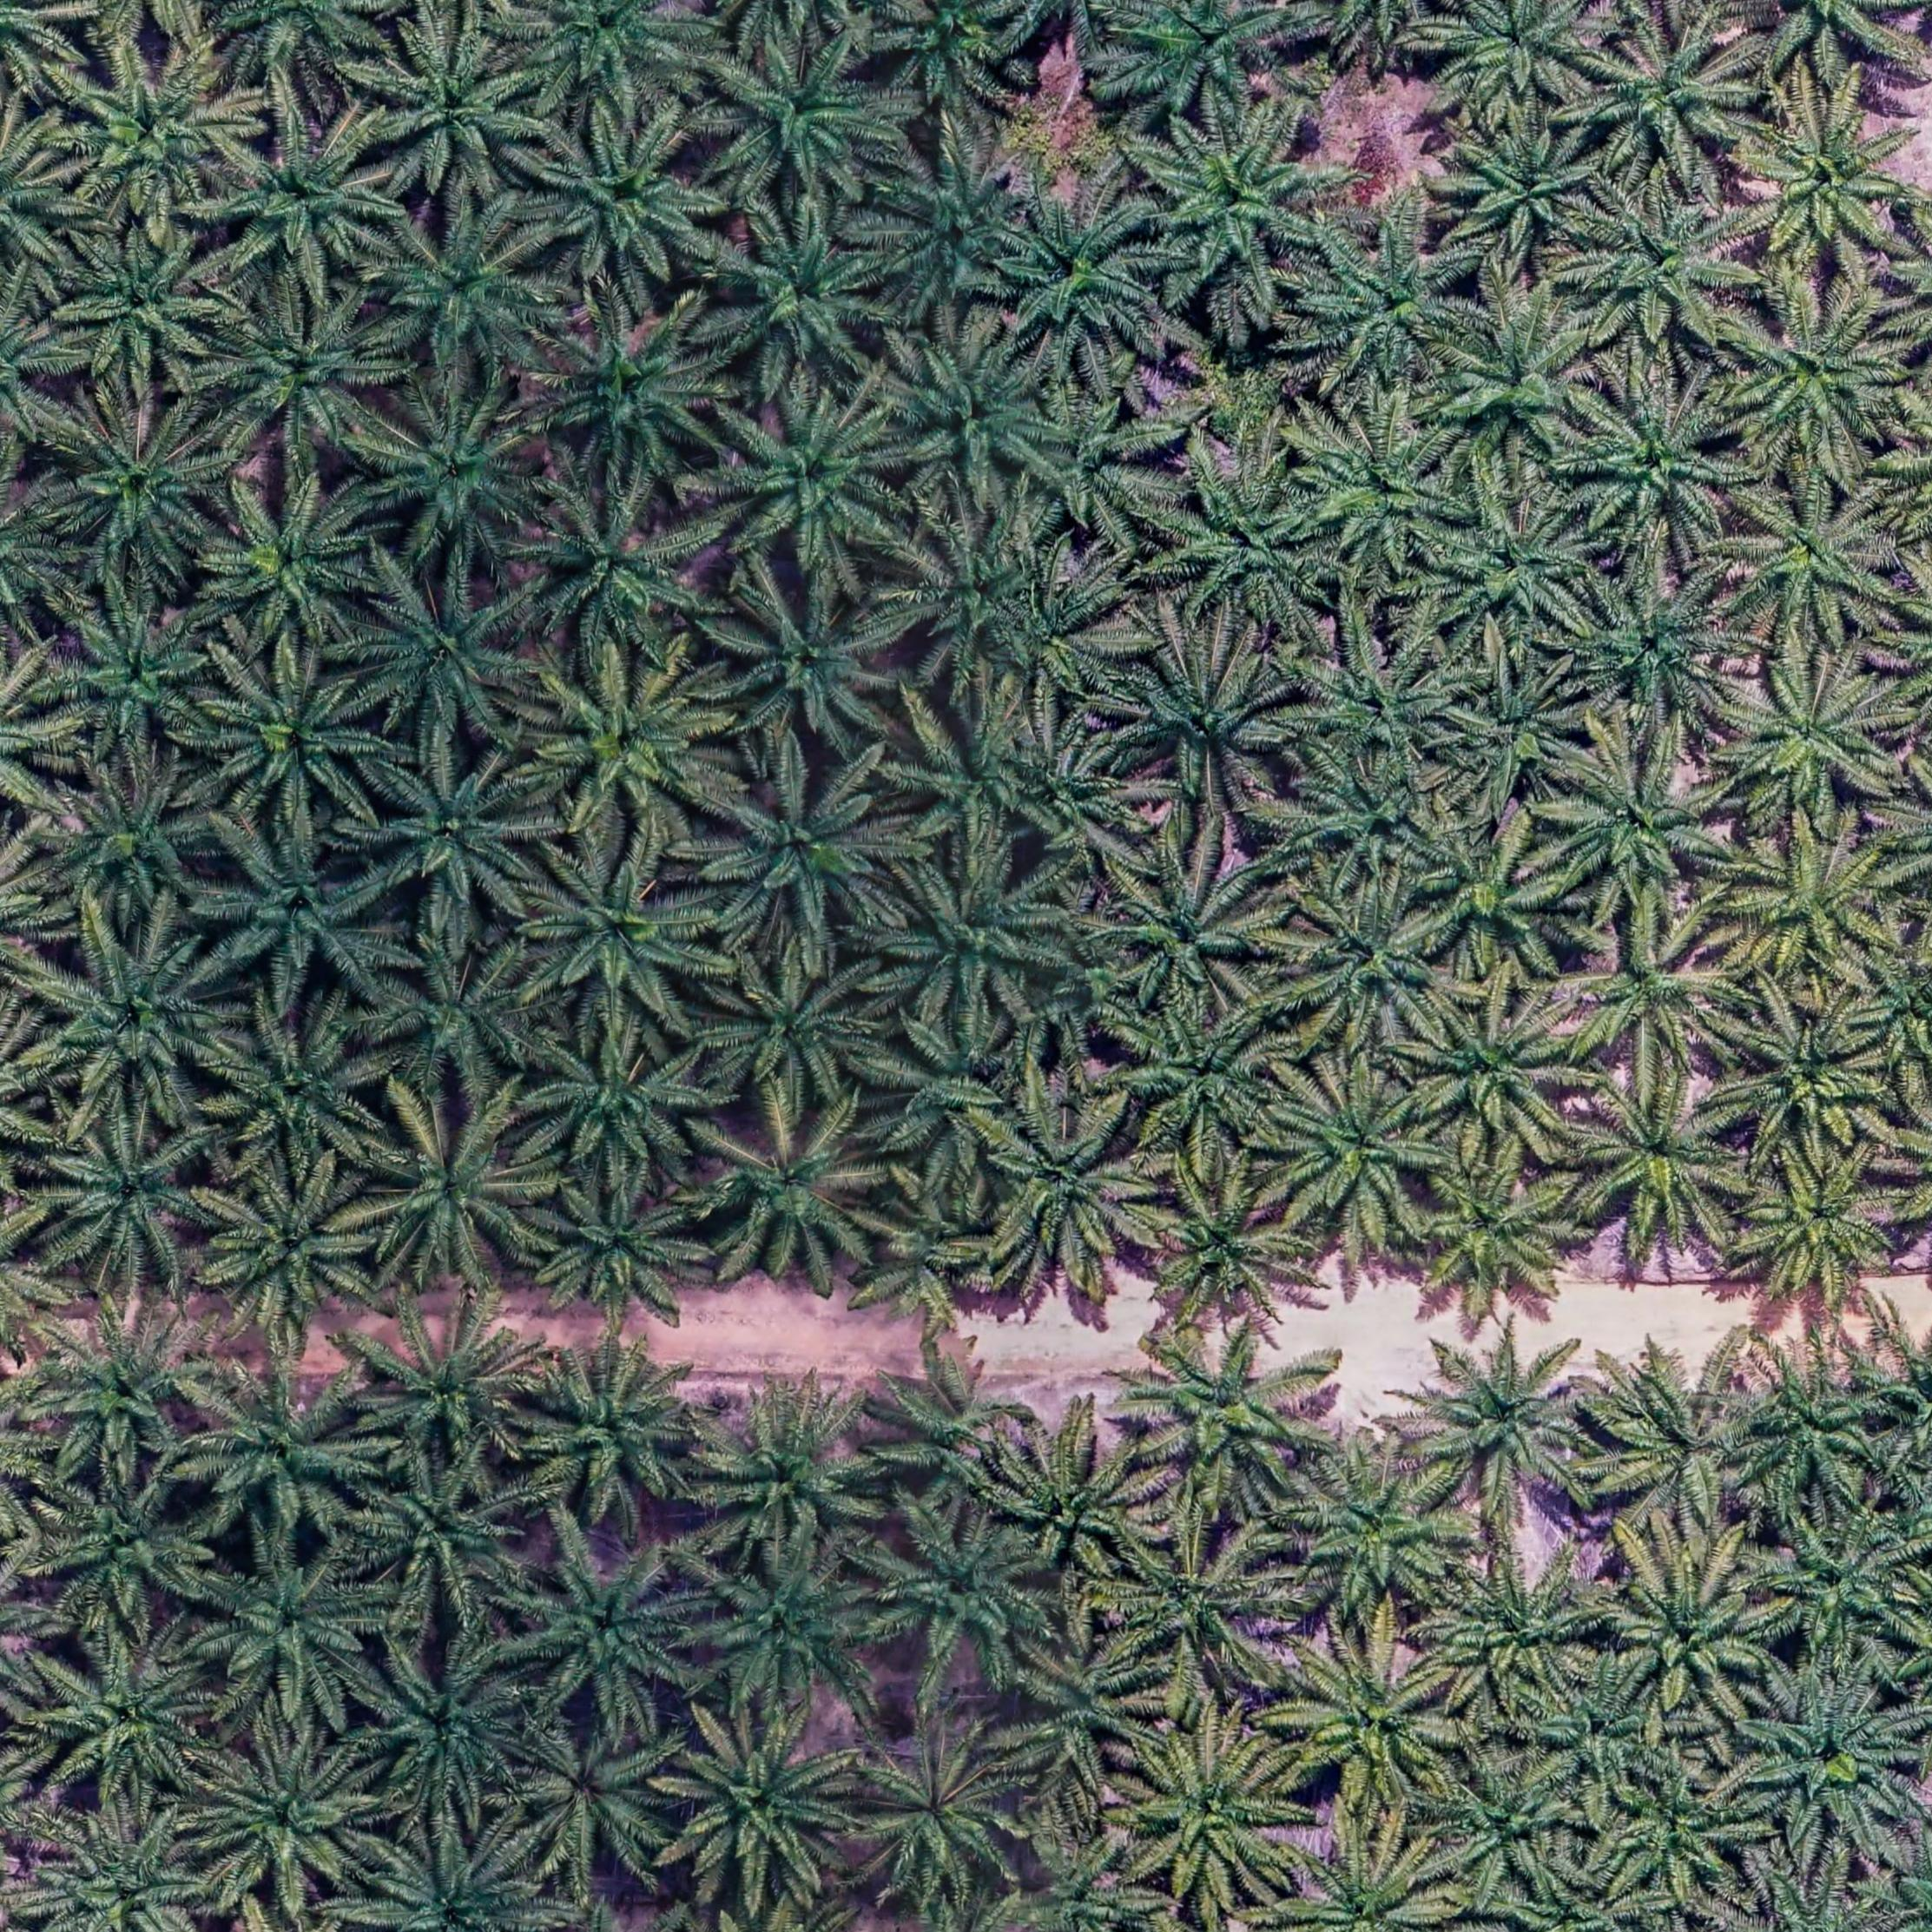palmtree: (504, 1516, 722, 1732), (1394, 1304, 1612, 1520), (19, 908, 242, 1113), (651, 1700, 870, 1907), (515, 644, 732, 840), (860, 1499, 1070, 1698), (525, 292, 734, 492), (1116, 1315, 1327, 1511), (706, 377, 918, 571), (352, 1086, 557, 1284), (515, 835, 722, 1031), (704, 566, 915, 757), (186, 1343, 389, 1539), (701, 754, 909, 943), (19, 1288, 225, 1479), (681, 1532, 892, 1718), (694, 1384, 899, 1571), (515, 474, 722, 660), (686, 1092, 890, 1279), (354, 368, 554, 557), (347, 556, 547, 745), (48, 34, 249, 219), (202, 280, 407, 462), (1727, 1661, 1921, 1852), (354, 740, 552, 927), (200, 810, 398, 996), (702, 205, 899, 391), (27, 1104, 228, 1284), (195, 646, 393, 828), (522, 110, 722, 290), (1086, 837, 1286, 1017), (202, 994, 396, 1178), (1536, 734, 1732, 916), (1138, 110, 1338, 288), (1723, 278, 1913, 465), (1599, 1530, 1787, 1720), (876, 318, 1063, 508), (196, 1161, 387, 1346), (1274, 1628, 1468, 1810), (189, 1727, 387, 1905), (34, 754, 234, 929), (874, 853, 1074, 1028), (982, 1093, 1168, 1281), (196, 469, 389, 649), (1713, 653, 1907, 832), (361, 198, 557, 375), (517, 1339, 715, 1514), (1111, 1725, 1304, 1904), (27, 1628, 223, 1803), (522, 1010, 720, 1184), (842, 1723, 1035, 1900), (1100, 637, 1299, 809), (196, 1536, 387, 1713), (702, 32, 901, 202), (356, 1629, 540, 1812), (1562, 1063, 1748, 1244), (44, 398, 230, 579), (1720, 472, 1907, 649), (867, 129, 1044, 317), (699, 947, 895, 1115), (1555, 901, 1744, 1074), (357, 21, 543, 196), (1716, 816, 1907, 985), (1152, 455, 1341, 625), (211, 119, 402, 287), (1734, 97, 1914, 274), (1276, 870, 1456, 1047), (1269, 1065, 1451, 1240), (1578, 11, 1766, 180), (28, 1465, 216, 1635), (1283, 1440, 1474, 1606), (1293, 218, 1477, 389), (1426, 1539, 1610, 1711), (350, 1444, 536, 1614), (881, 497, 1051, 683), (356, 1300, 545, 1467), (1104, 1522, 1293, 1688), (41, 587, 225, 757), (502, 1716, 686, 1886), (361, 934, 548, 1100), (1723, 1334, 1898, 1511), (863, 1330, 1039, 1506), (51, 221, 230, 393), (994, 189, 1166, 368), (529, 1169, 713, 1336), (1403, 987, 1587, 1154), (863, 1005, 1037, 1180), (1562, 372, 1743, 540), (1564, 191, 1748, 356), (1721, 991, 1897, 1162), (883, 686, 1060, 856), (1559, 564, 1741, 729), (1102, 996, 1292, 1154), (1750, 1499, 1925, 1667), (1001, 1617, 1164, 1798), (1134, 1159, 1309, 1325), (1401, 810, 1576, 975), (985, 1422, 1162, 1582), (1431, 301, 1603, 462), (1293, 626, 1468, 784), (1430, 655, 1594, 814), (1592, 1752, 1764, 1904), (1407, 1141, 1583, 1288), (1277, 747, 1454, 893), (1299, 419, 1465, 575), (1592, 1375, 1755, 1529), (1730, 1139, 1907, 1281), (19, 1806, 218, 1932), (1431, 490, 1592, 635), (1438, 119, 1599, 262), (508, 0, 711, 113), (349, 1817, 548, 1932), (1430, 1750, 1582, 1897), (1109, 0, 1300, 117), (1023, 372, 1155, 538), (1422, 0, 1606, 119), (858, 1187, 1003, 1330), (1277, 1824, 1461, 1932), (996, 1824, 1164, 1932), (867, 0, 1033, 108)
